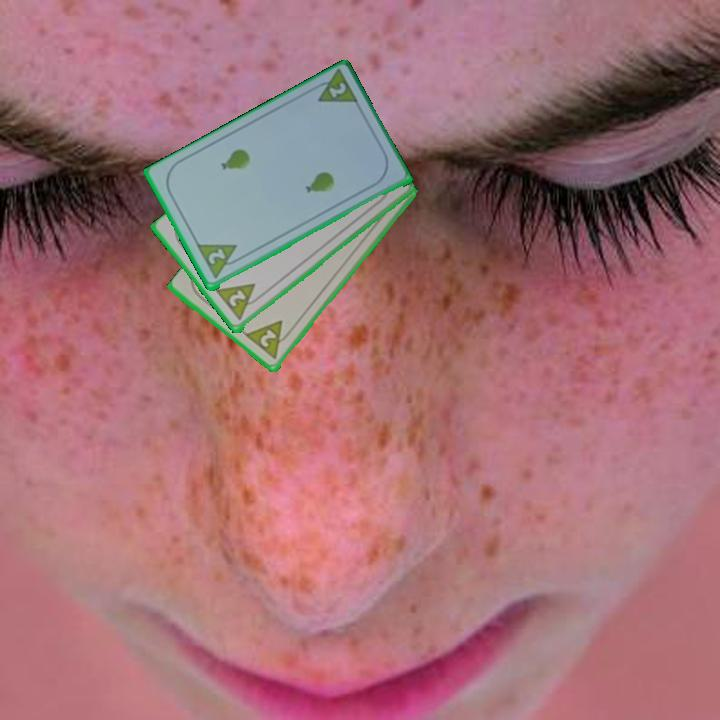2p: (243, 317, 296, 363), (213, 280, 266, 324), (307, 67, 362, 108), (204, 245, 229, 268)
